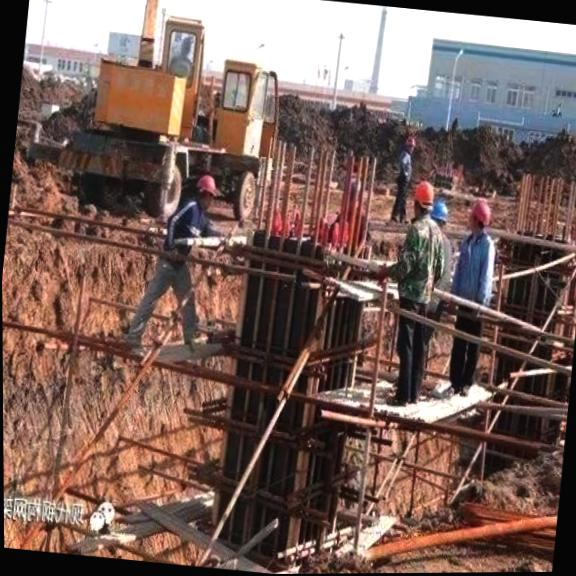no_safety_vest: (393, 218, 444, 303), (453, 233, 498, 305), (157, 203, 208, 265), (395, 153, 413, 186)
